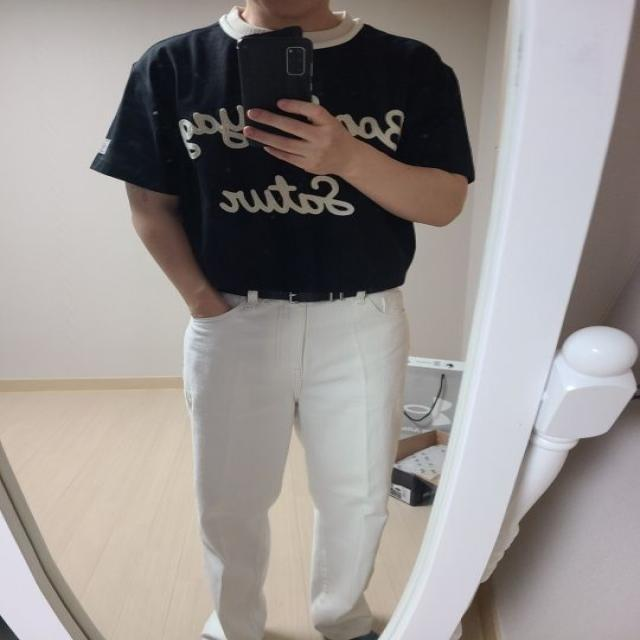cottonpants: (182, 286, 411, 637)
shortsleeve: (92, 16, 481, 301)
